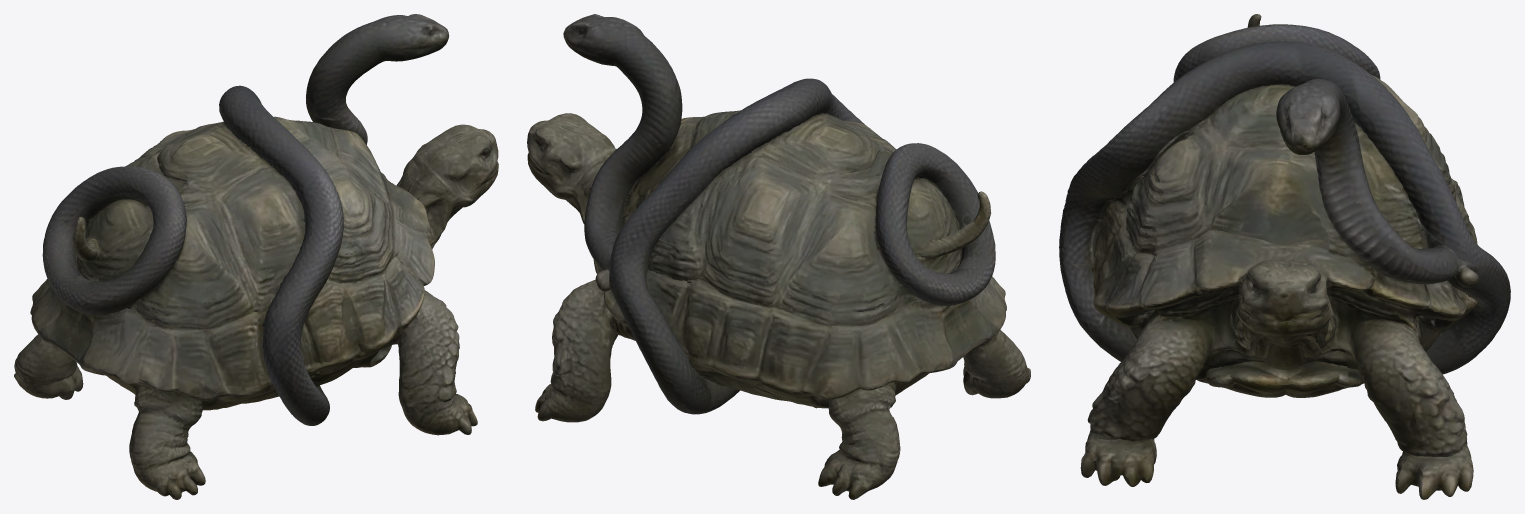
The model's file is xuanwu.glb.
3 views of the same model, side by side, from view 1: azimuth 30°, elevation 25°; view 2: azimuth 150°, elevation 25°; view 3: azimuth 270°, elevation 25° (orthographic). The views are drawn at different scales.
Parts seen in each view (by area): view 1: geometry_0; view 2: geometry_0; view 3: geometry_0.
Part boxes in pixels (x1,y1,x2,y2): geometry_0: [14, 14, 498, 499]; geometry_0: [527, 14, 1030, 499]; geometry_0: [1059, 14, 1510, 499].
Size of the model in its own units: 0.45 by 0.3393 by 0.3463.
Materials: 1 (1 with a texture image).
